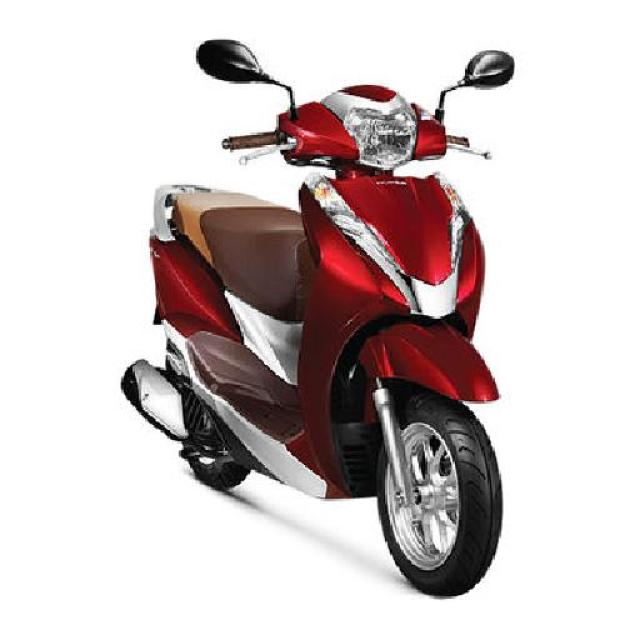All: (116, 79, 517, 606)
Head: (222, 84, 496, 173)
Tail: (140, 182, 214, 255)
